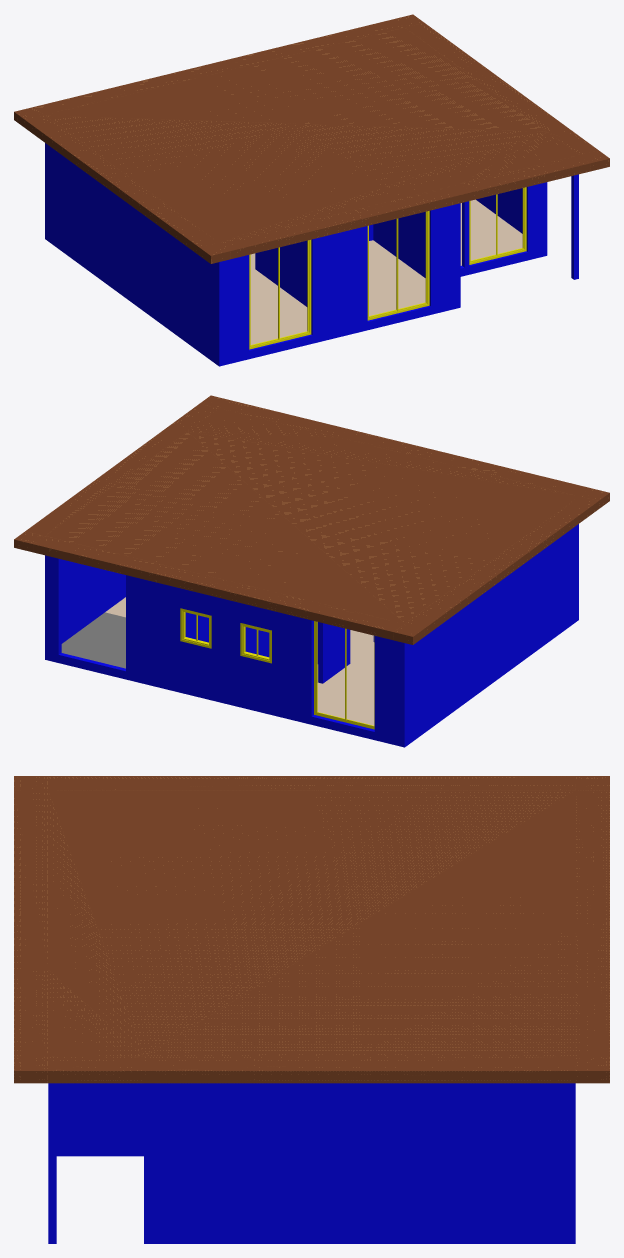
The model's file is house3.obj.
3 views of the same model, one above another, from view 1: azimuth 30°, elevation 25°; view 2: azimuth 150°, elevation 25°; view 3: azimuth 270°, elevation 25° (orthographic). The views are drawn at different scales.
Visible parts, largest first — view 1: Techo, House, Room_izq_floor, Room_der_floor, Floor, FixedWindow002, FixedWindow001, FixedWindow003; view 2: Techo, House, Suite_Floor, Kitchen_Floor, Floor, FixedWindow004, FixedWindow006, FixedWindow005; view 3: Techo, House.
Part boxes in pixels (box(x1,y1,x2,y2)): Techo: box(14, 14, 609, 263); House: box(45, 143, 578, 366); Room_izq_floor: box(250, 269, 307, 344); Room_der_floor: box(369, 240, 425, 315); Floor: box(250, 199, 522, 269); FixedWindow002: box(367, 211, 429, 320); FixedWindow001: box(249, 240, 311, 349); FixedWindow003: box(469, 187, 526, 264); Techo: box(14, 395, 609, 644); House: box(45, 524, 578, 747); Suite_Floor: box(317, 666, 374, 725); Kitchen_Floor: box(61, 612, 125, 668); Floor: box(105, 597, 374, 672); FixedWindow004: box(314, 621, 374, 729); FixedWindow006: box(240, 623, 271, 663); FixedWindow005: box(180, 608, 211, 648); Techo: box(14, 776, 609, 1083); House: box(48, 1083, 575, 1243).
Bounding box in the file's own units: 398 × 118 × 340.
5 materials, 4 textured.
